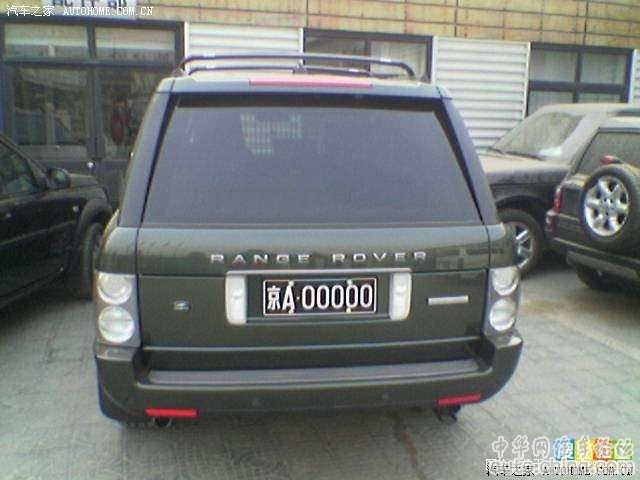plate_number: (259, 274, 380, 315)
